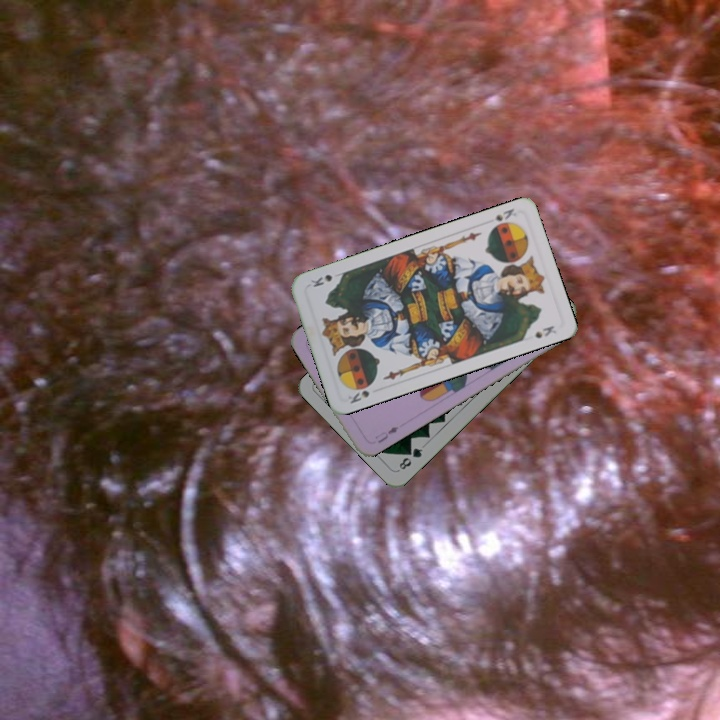EU: (371, 422, 401, 446)
G8: (395, 444, 425, 472)
SK: (487, 204, 519, 232), (344, 379, 377, 406)
